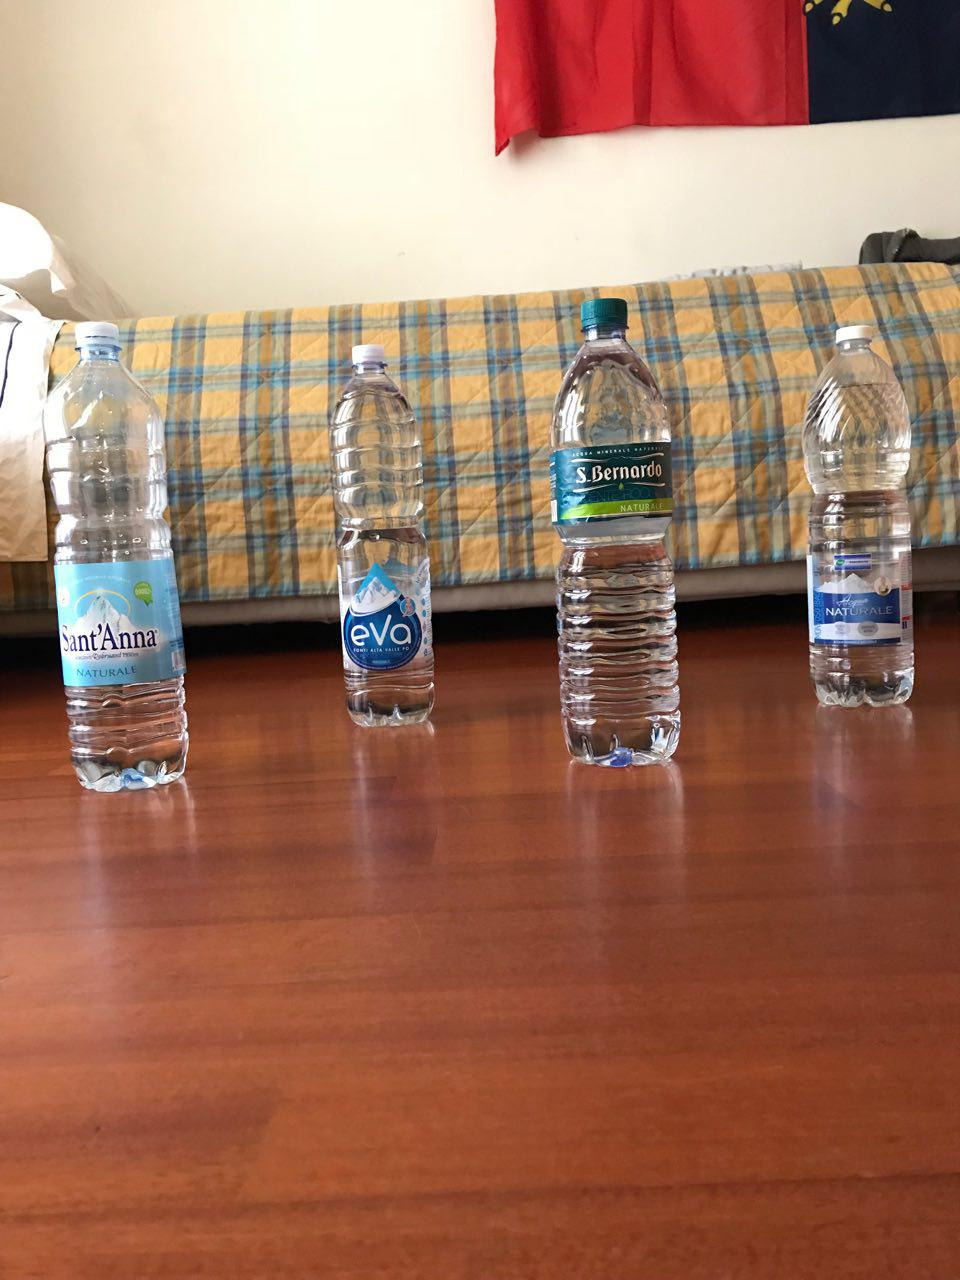san_bernardo: (548, 297, 682, 768)
